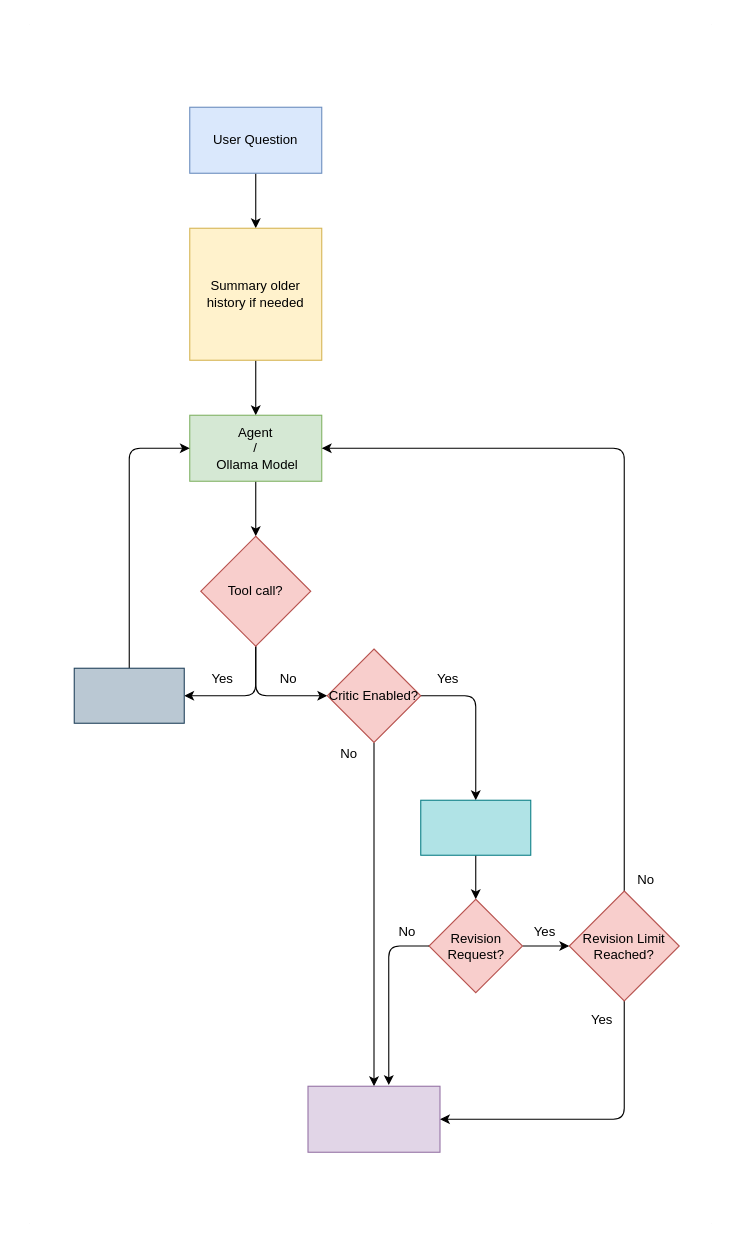
The diagram is 741 pixels wide and 1247 high, and some of its shapes have lost their labels. Here are the shapes that lost their labels. From the top down, the centre of each, then its label:
At pixel 128 695: "Execute Tool".
At pixel 475 827: "Critic Checks Answer".
At pixel 373 1118: "Final Answer".
